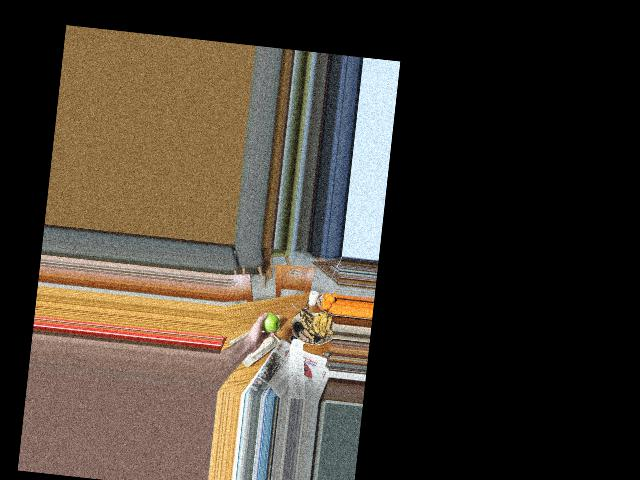apple: (257, 309, 281, 335)
